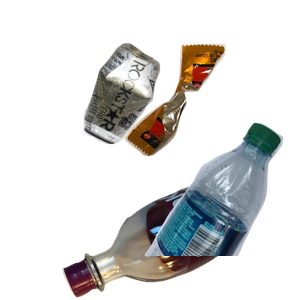glass: (60, 180, 300, 300)
metal: (81, 41, 234, 178)
plastic: (142, 120, 300, 300)
trash: (122, 41, 300, 190)
